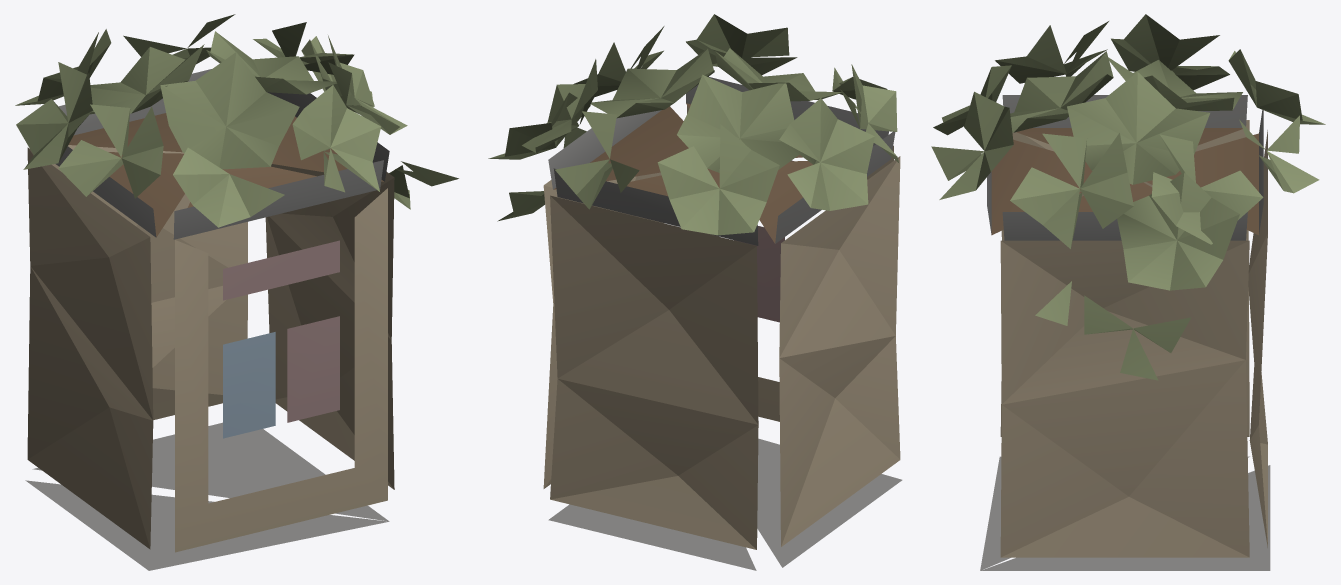
Rendered from geranium.lod.glb.
The picture shows the model from 3 angles, left to right: view 1: azimuth 30°, elevation 25°; view 2: azimuth 150°, elevation 25°; view 3: azimuth 270°, elevation 25°; orthographic projection. The views are drawn at different scales.
Visible parts, largest first — view 1: geranium; view 2: geranium; view 3: geranium.
Boxes of the visible parts, x1,y1,x2,y2 form: geranium: (15,14,458,570); geranium: (488,14,902,570); geranium: (931,14,1325,570).
Size of the model in its own units: 0.7868 by 0.8729 by 0.6921.
